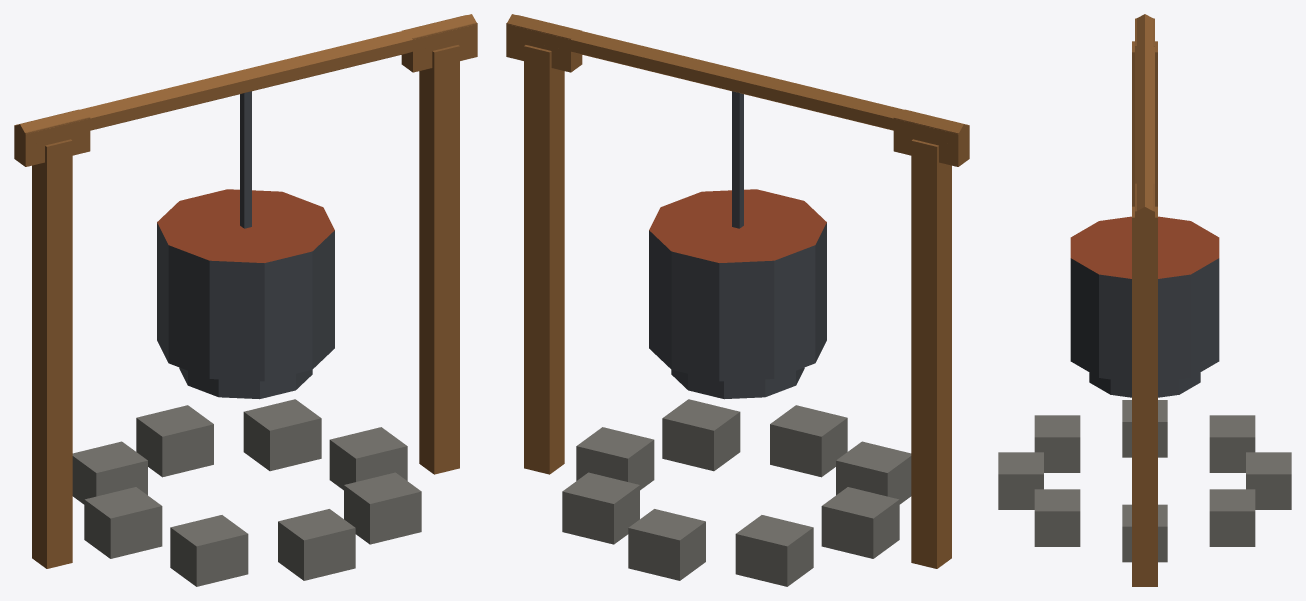
The model's file is camp_cookpot.glb.
3 renders of one model, left to right at view 1: azimuth 30°, elevation 25°; view 2: azimuth 150°, elevation 25°; view 3: azimuth 270°, elevation 25°, orthographic. The views are drawn at different scales.
Parts seen in each view (by area): view 1: camp_cookpot; view 2: camp_cookpot; view 3: camp_cookpot.
Part boxes in pixels (x1=…): camp_cookpot: x1=14, y1=14, x2=477, y2=586; camp_cookpot: x1=506, y1=14, x2=969, y2=586; camp_cookpot: x1=998, y1=14, x2=1291, y2=586.
Size of the model in its own units: 1.4 by 1.32 by 0.9.
1 material, 1 textured.
